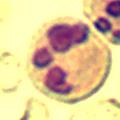neutrophil: (25, 15, 112, 102), (27, 17, 92, 110)
